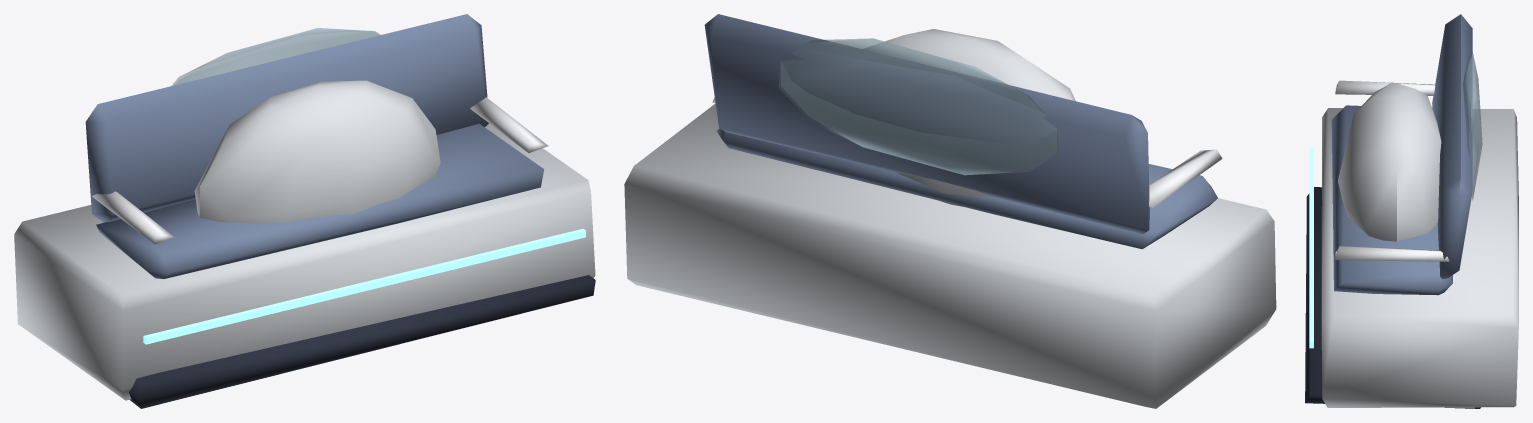
Rendered from lod_capsule_bench.glb.
3 renders of one model, left to right at view 1: azimuth 30°, elevation 25°; view 2: azimuth 150°, elevation 25°; view 3: azimuth 270°, elevation 25°, orthographic. The views are drawn at different scales.
Parts seen in each view (by area): view 1: capsule_bench; view 2: capsule_bench; view 3: capsule_bench.
Boxes of the visible parts, x1,y1,x2,y2 form: capsule_bench: (14, 14, 595, 408); capsule_bench: (624, 14, 1276, 408); capsule_bench: (1305, 14, 1518, 408).
Bounding box in the file's own units: 2.16 × 1.1 × 0.9274.
